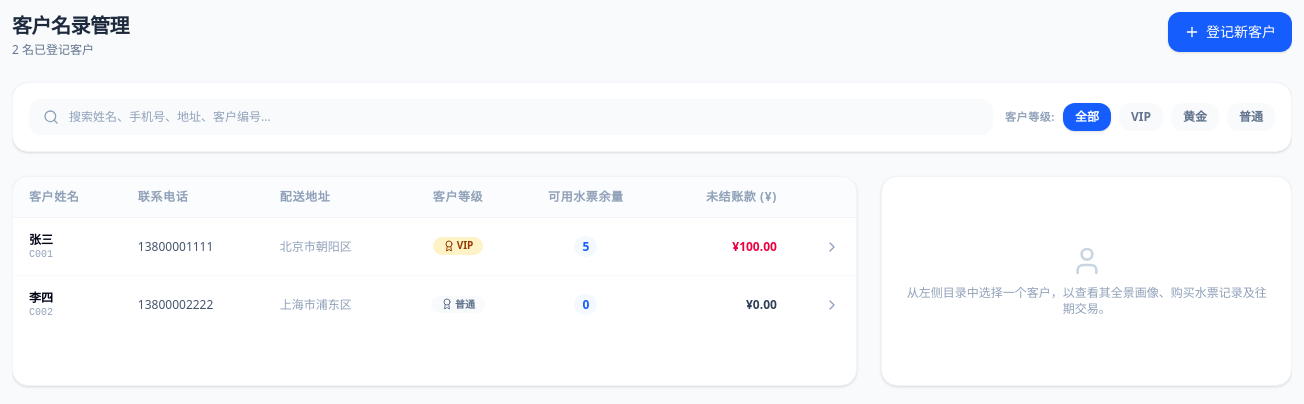
it: CustomersTab Component › filters customers by search keyword
Type "张三" into the field with placeholder "搜索姓名、手机号、地址、客户编号..." at {"x": 511, "y": 117}, box [29,99,993,135]
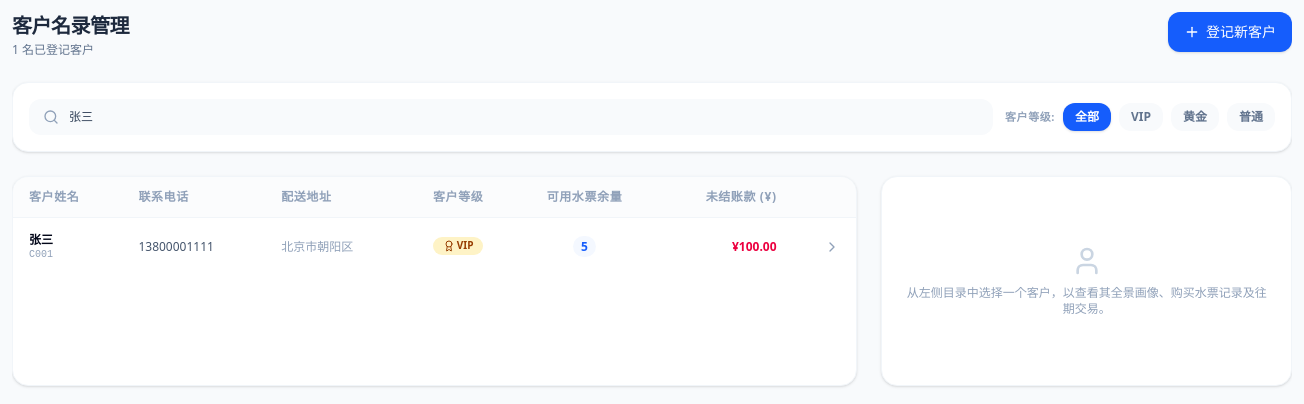
Expected: the text "张三" is shown, [29,231,53,248]
Now the text "李四" is gone
